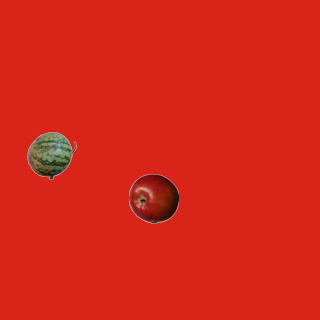Apple Braeburn: (128, 173, 178, 223)
Watermelon: (26, 130, 76, 180)
